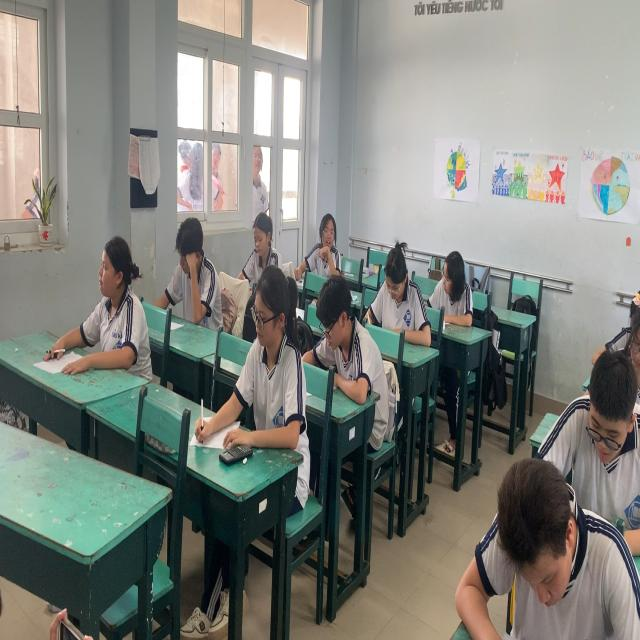not_cheating: (412, 472, 619, 640), (50, 214, 174, 436), (208, 260, 318, 498), (519, 412, 640, 615), (296, 239, 396, 439), (144, 183, 236, 364), (563, 320, 640, 496), (355, 218, 441, 370), (409, 207, 494, 356), (211, 177, 297, 320), (278, 175, 359, 314), (599, 258, 640, 438)
